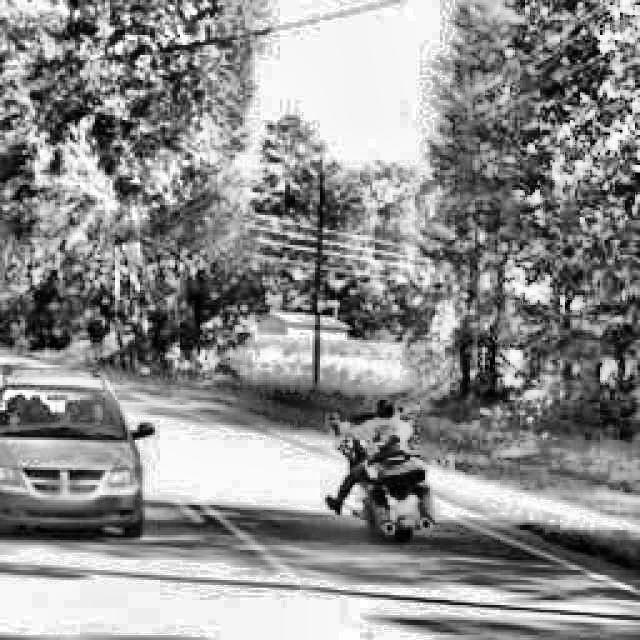motorcycle: (322, 393, 448, 540)
